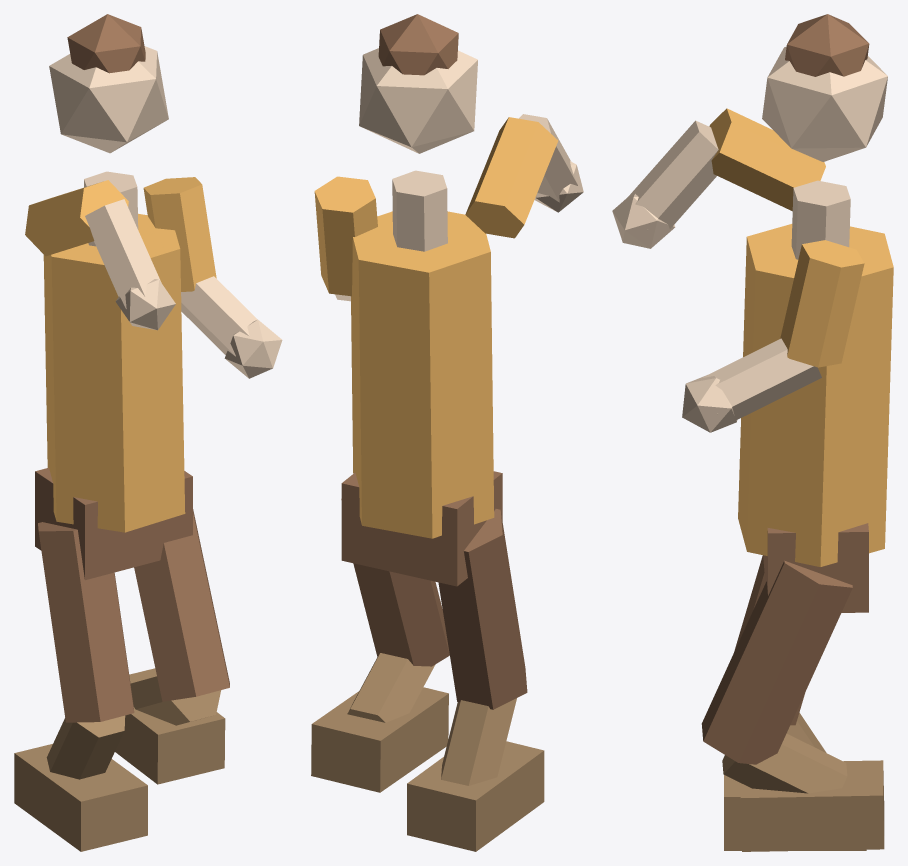
File: pose_attack_1_03.glb
3 views of the same model, side by side, from view 1: azimuth 30°, elevation 25°; view 2: azimuth 150°, elevation 25°; view 3: azimuth 270°, elevation 25° (orthographic). The views are drawn at different scales.
Visible parts, largest first — view 1: pose; view 2: pose; view 3: pose.
Part boxes in pixels (<box>): pose: <box>14,14,282,851</box>; pose: <box>311,14,583,851</box>; pose: <box>612,14,893,851</box>.
Size of the model in its own units: 0.4327 by 1.56 by 0.4739.
